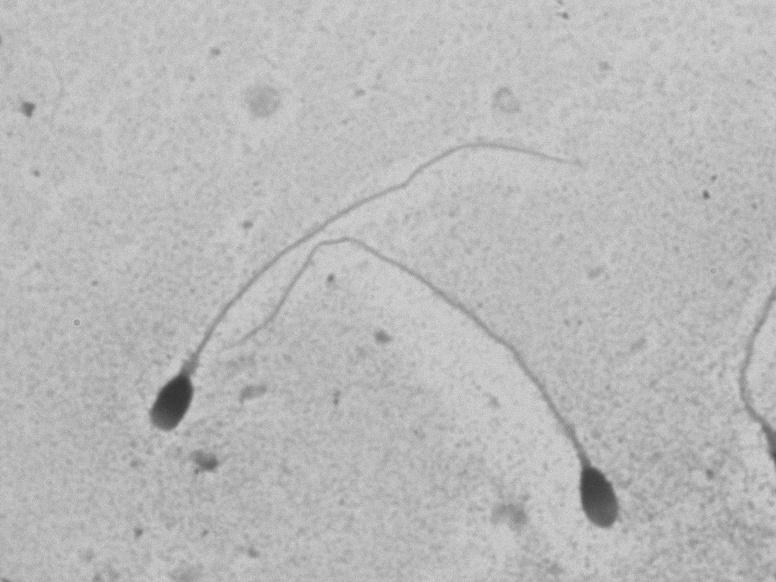Normal: (117, 122, 601, 449), (213, 230, 638, 546)
